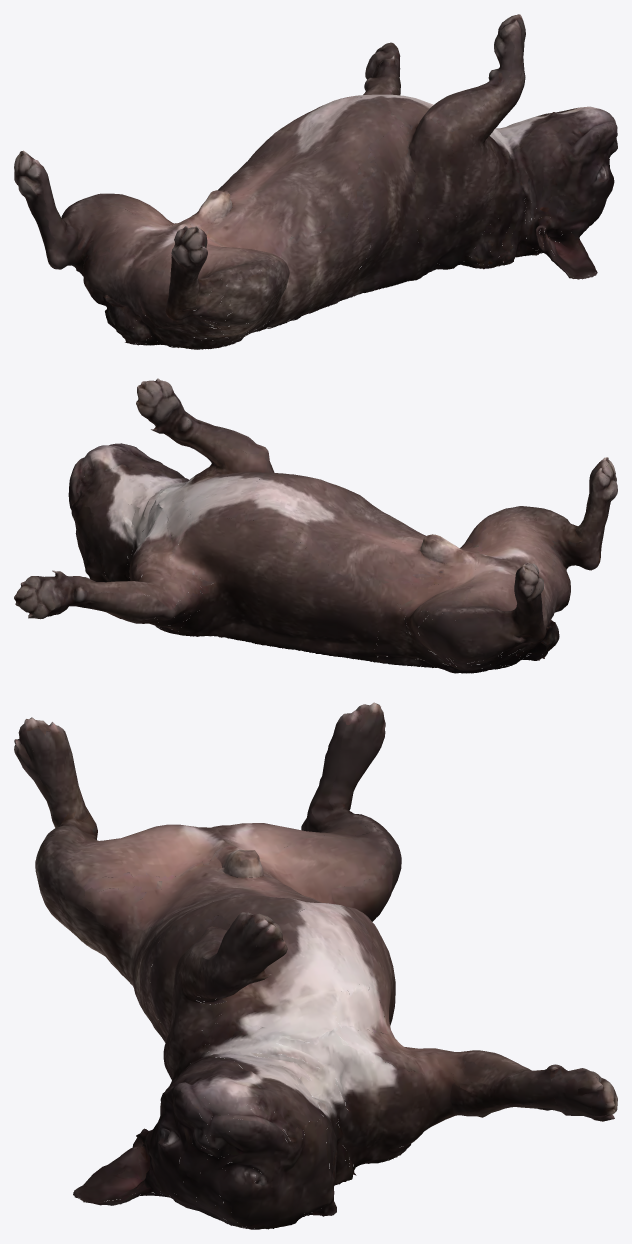
File: dog-b.glb
The picture shows the model from 3 angles, top to bottom: view 1: azimuth 30°, elevation 25°; view 2: azimuth 150°, elevation 25°; view 3: azimuth 270°, elevation 25°; orthographic projection. The views are drawn at different scales.
Visible parts, largest first — view 1: Muffin_N_50k_4k_2022_e_Muffin_N_50k_4k_2022_e_u0_v0_0; view 2: Muffin_N_50k_4k_2022_e_Muffin_N_50k_4k_2022_e_u0_v0_0; view 3: Muffin_N_50k_4k_2022_e_Muffin_N_50k_4k_2022_e_u0_v0_0.
Part boxes in pixels (left/top/right/bottom): Muffin_N_50k_4k_2022_e_Muffin_N_50k_4k_2022_e_u0_v0_0: left=14, top=14, right=617, bottom=349; Muffin_N_50k_4k_2022_e_Muffin_N_50k_4k_2022_e_u0_v0_0: left=14, top=378, right=617, bottom=673; Muffin_N_50k_4k_2022_e_Muffin_N_50k_4k_2022_e_u0_v0_0: left=14, top=702, right=617, bottom=1229.
Bounding box in the file's own units: 0.5979 × 0.2252 × 0.4342.
1 material, 1 textured.
